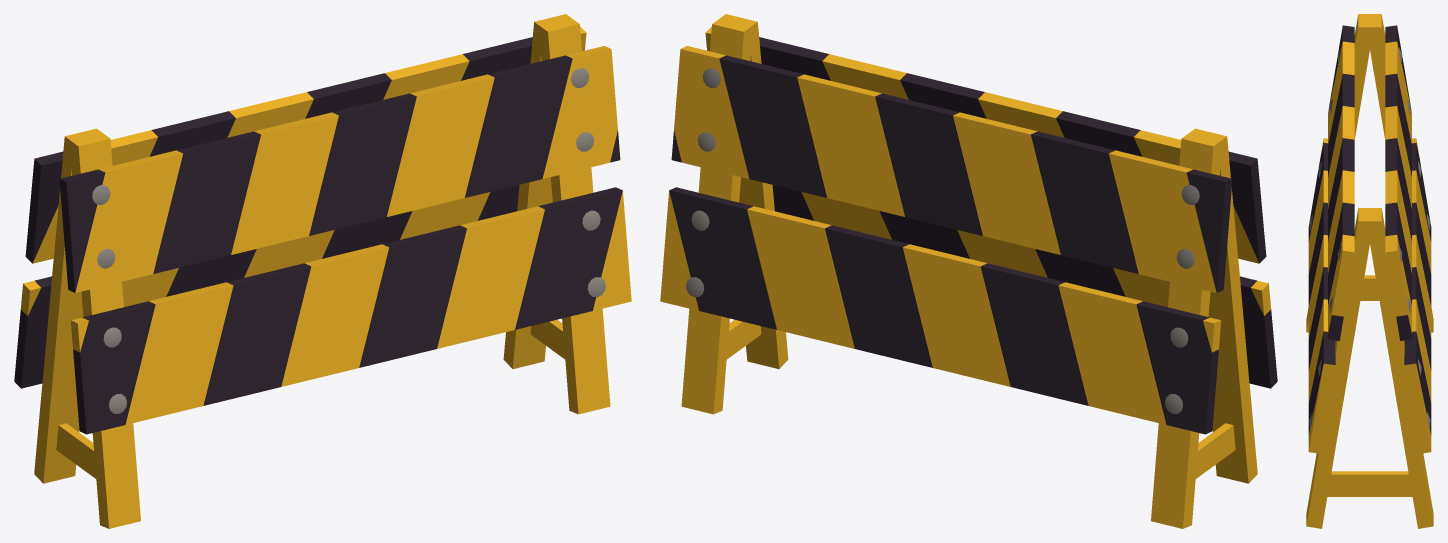
File: Barricade.fbx
3 views of the same model, side by side, from view 1: azimuth 30°, elevation 25°; view 2: azimuth 150°, elevation 25°; view 3: azimuth 270°, elevation 25° (orthographic). The views are drawn at different scales.
Parts seen in each view (by area): view 1: Barricade; view 2: Barricade; view 3: Barricade.
Boxes of the visible parts, x1=… form: Barricade: x1=14, y1=14, x2=631, y2=528; Barricade: x1=660, y1=14, x2=1277, y2=528; Barricade: x1=1306, y1=14, x2=1433, y2=528.
Size of the model in its own units: 373 by 238 by 88.95.
